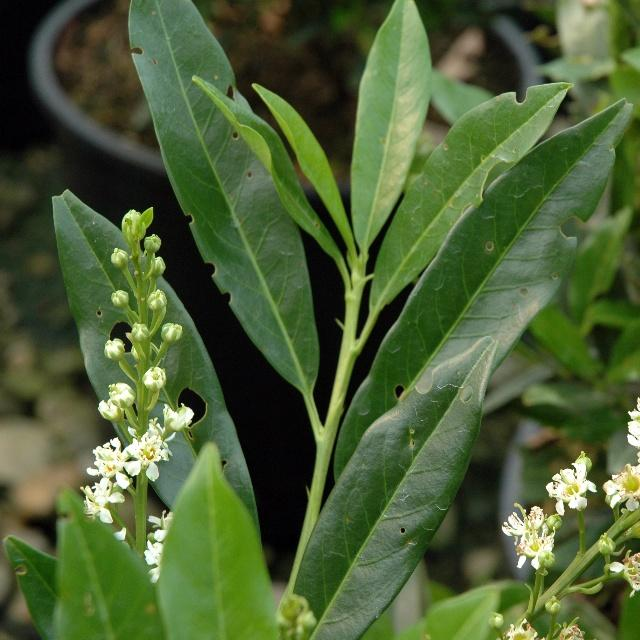shot_hole: (113, 2, 342, 338)
